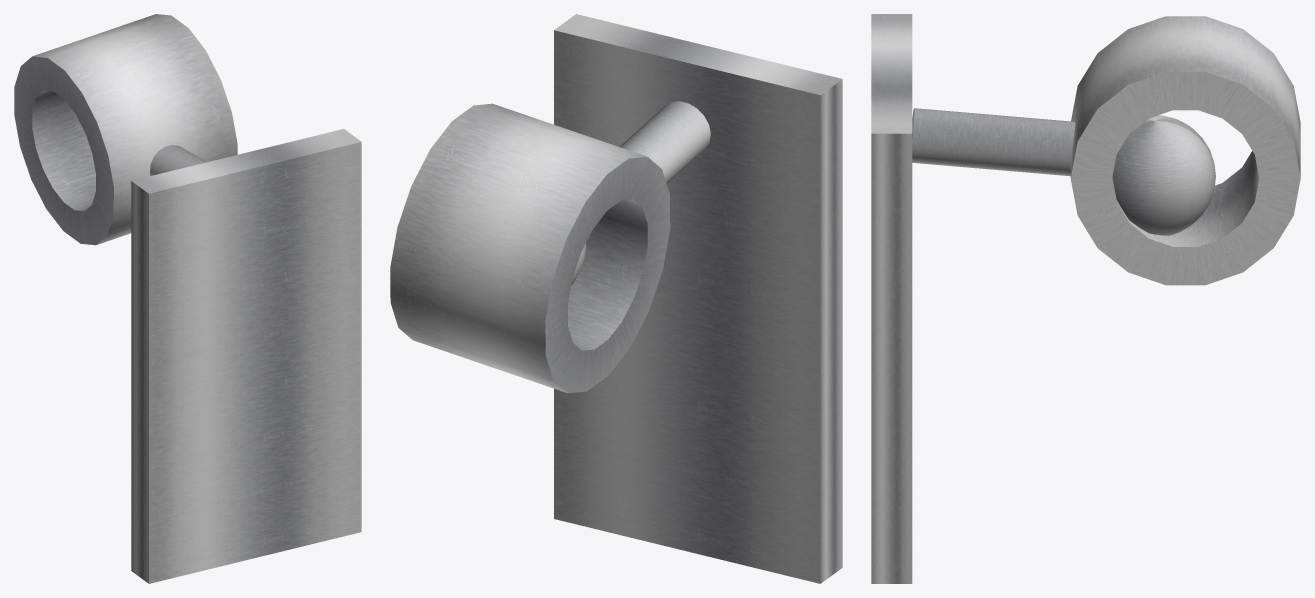
File: lamppuseina 1.fbx
3 views of the same model, side by side, from view 1: azimuth 30°, elevation 25°; view 2: azimuth 150°, elevation 25°; view 3: azimuth 270°, elevation 25° (orthographic). The views are drawn at different scales.
Visible parts, largest first — view 1: Box001; view 2: Box001; view 3: Box001.
Part boxes in pixels (bbox=[...]): Box001: bbox=[14, 14, 361, 583]; Box001: bbox=[390, 14, 842, 583]; Box001: bbox=[871, 14, 1300, 583].
Size of the model in its own units: 16.16 by 30.6 by 24.48.
1 material, 1 textured.
